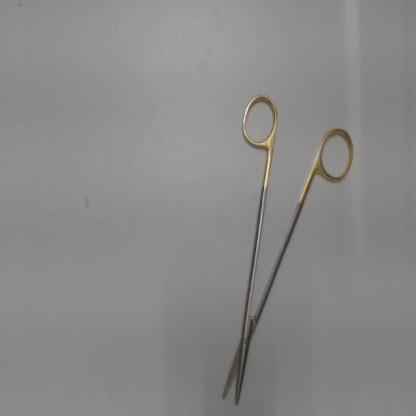7 Metzenbaum Scissors: (218, 89, 360, 410)
